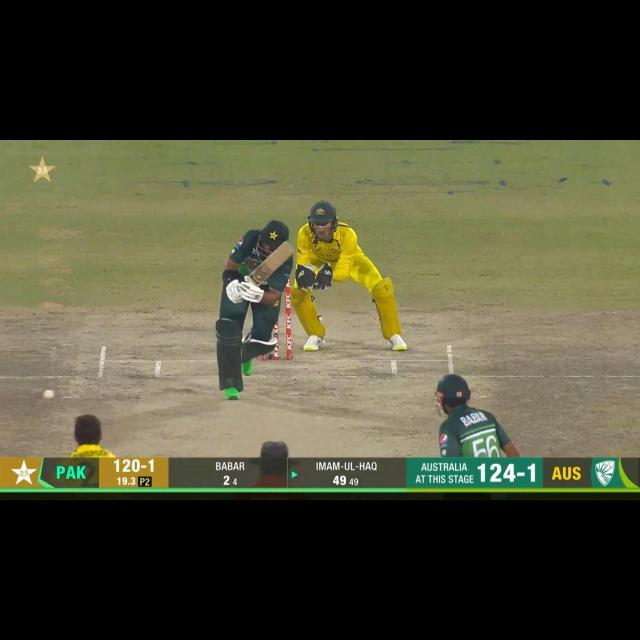bat: (252, 239, 297, 285)
toe: (276, 240, 295, 254)
